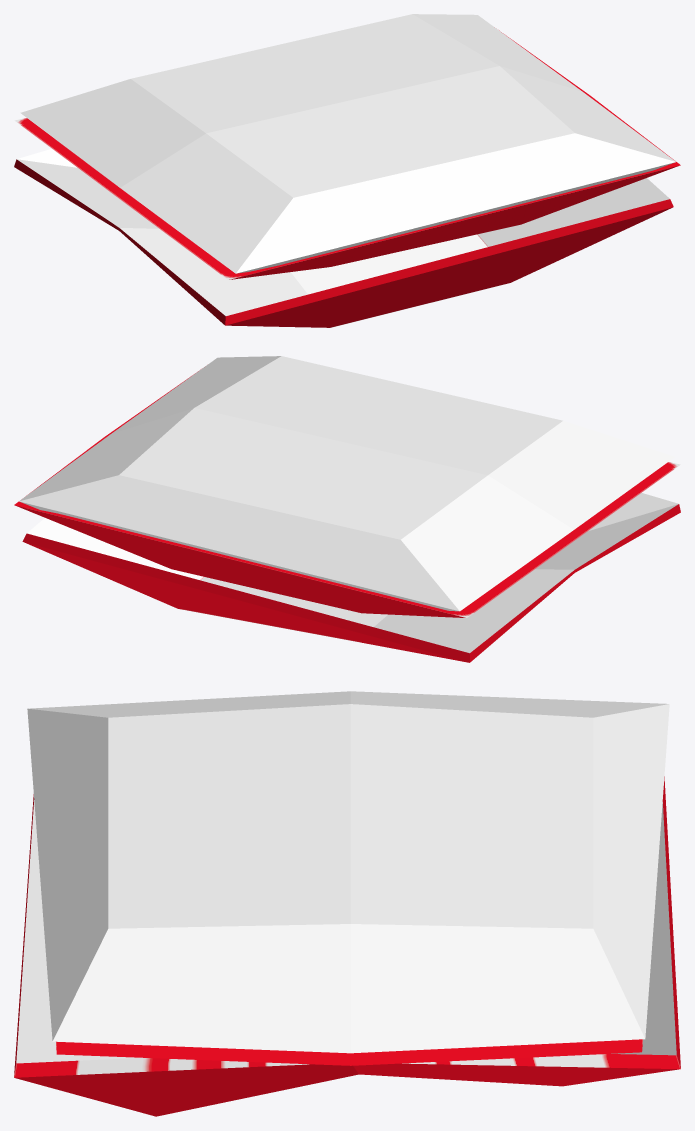
Rendered from TrashBox1.fbx.
The picture shows the model from 3 angles, top to bottom: view 1: azimuth 30°, elevation 25°; view 2: azimuth 150°, elevation 25°; view 3: azimuth 270°, elevation 25°; orthographic projection. The views are drawn at different scales.
Visible parts, largest first — view 1: Haut-boite, Bas-boite; view 2: Haut-boite, Bas-boite; view 3: Haut-boite, Bas-boite.
Part boxes in pixels (x1,y1,x2,y2): Haut-boite: (14,14,680,279); Bas-boite: (14,149,673,327); Haut-boite: (14,356,680,617); Bas-boite: (22,493,680,662); Haut-boite: (27,691,669,1065); Bas-boite: (14,776,680,1116).
Size of the model in its own units: 339 by 109 by 275.
